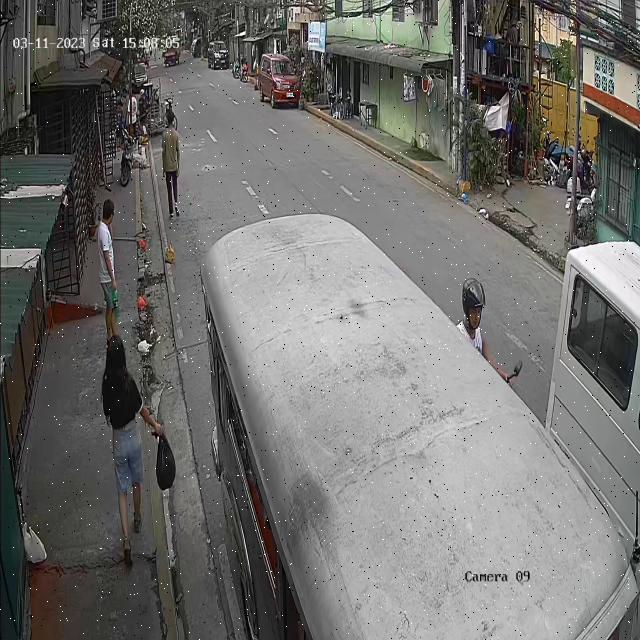human: (102, 336, 176, 567), (97, 197, 121, 334)
trash: (152, 427, 178, 493), (110, 286, 124, 318)
